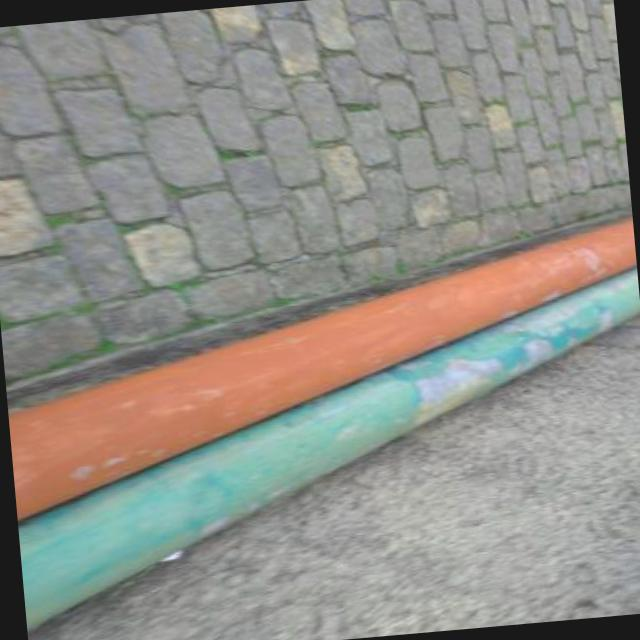gas: (17, 269, 638, 635), (7, 220, 636, 526)
